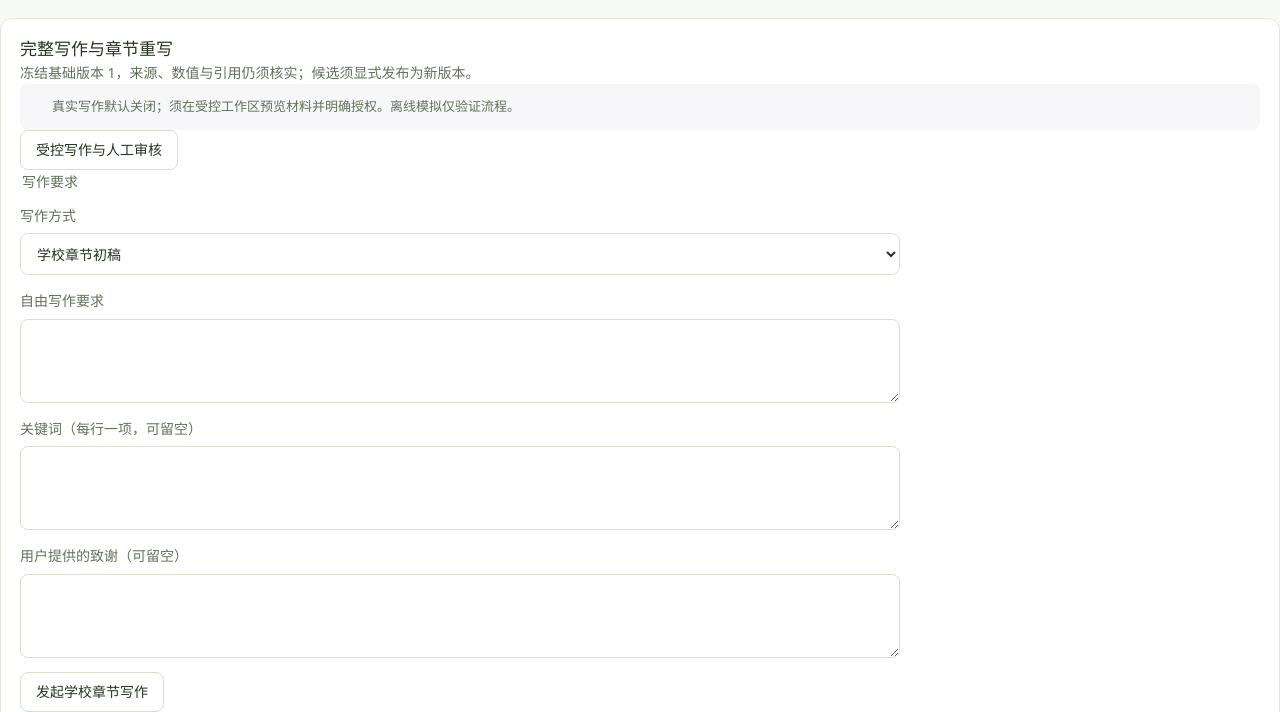
Test: uses actual school rewrite ids and exposes controlled writing for the school contract
Check: the button "受控写作与人工审核" is shown, box [20,130,178,170]
Select "指定章节重写" in the dropdown labelled "写作方式" at (460, 254), box [20,233,900,275]
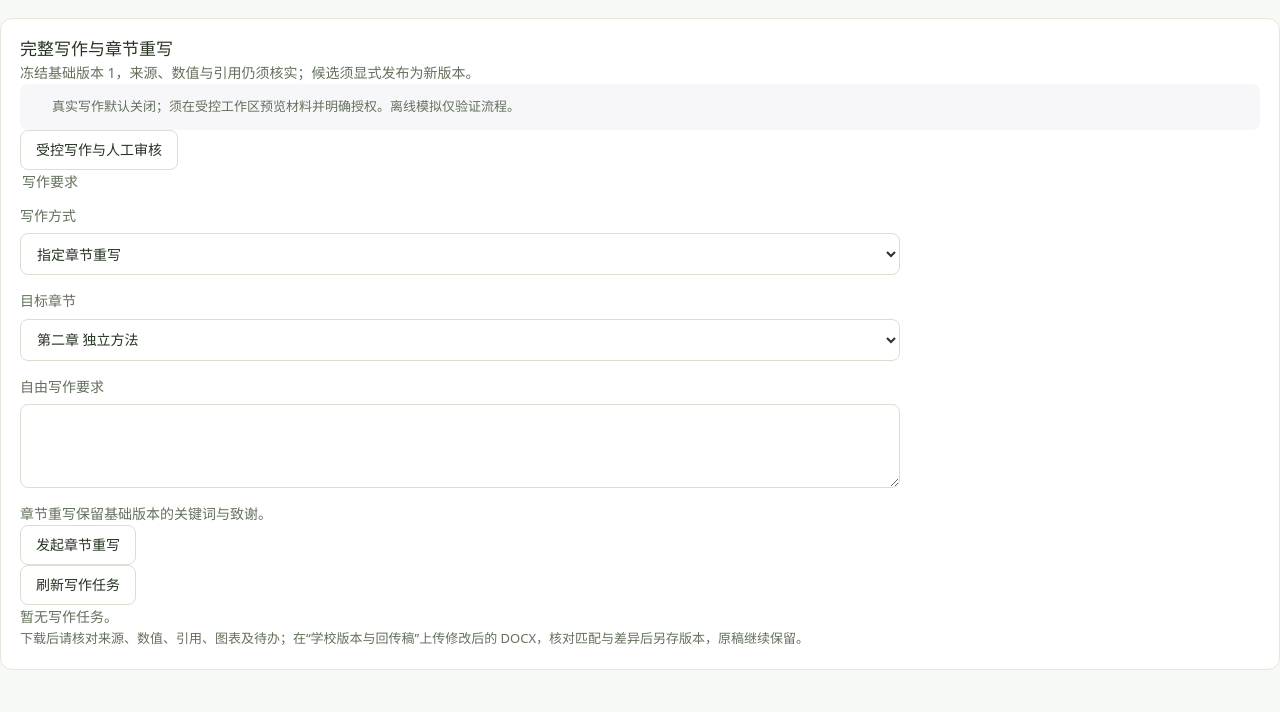
Select "第二章 独立方法" in the dropdown labelled "目标章节" at (460, 340), box [20,319,900,361]
Type "核对方法" into the text box labelled "自由写作要求" at (460, 446), box [20,404,900,488]
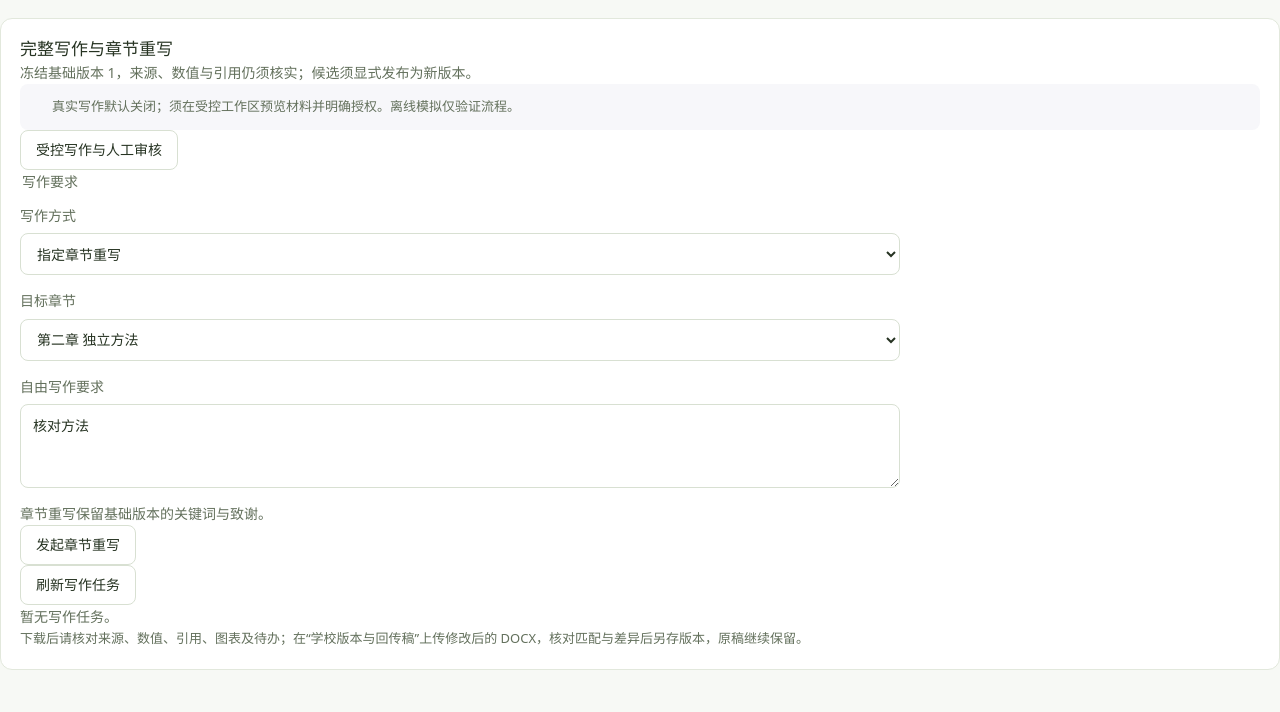
Click the button "发起章节重写" at (78, 545), box [20,525,136,565]
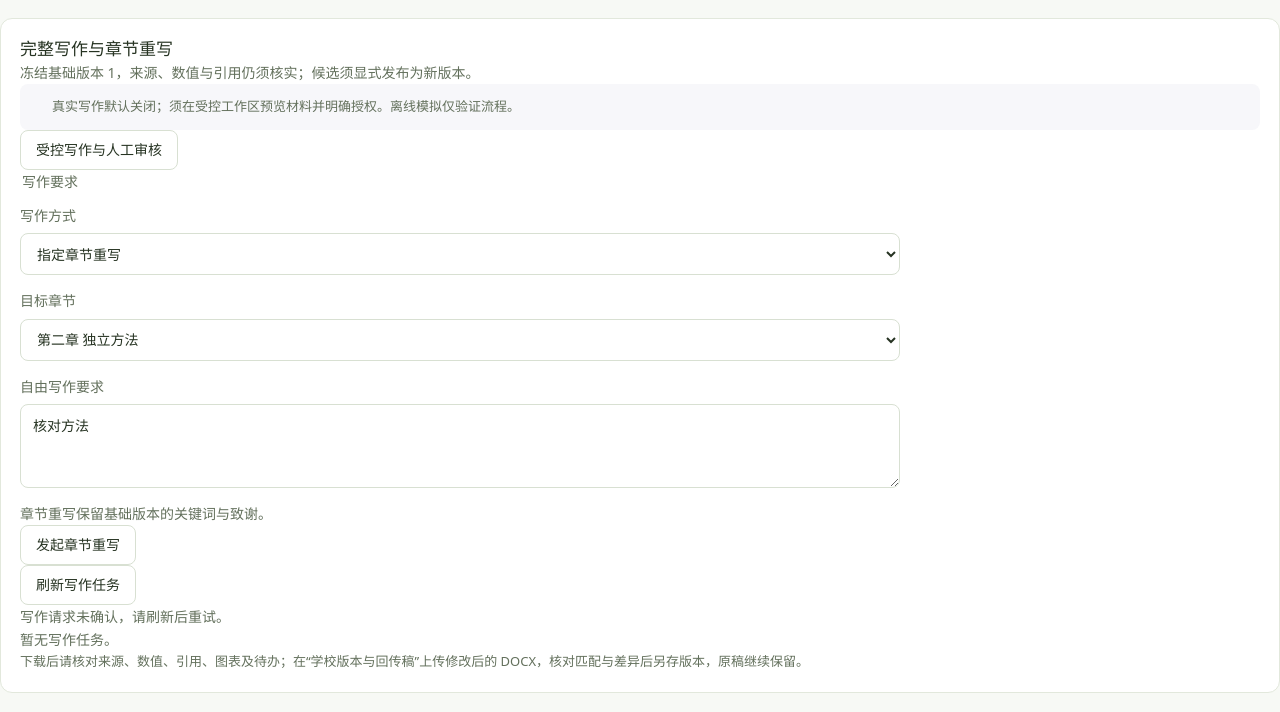
Check: the message "写作请求未确认，请刷新后重试。" is shown, box [20,607,230,626]
